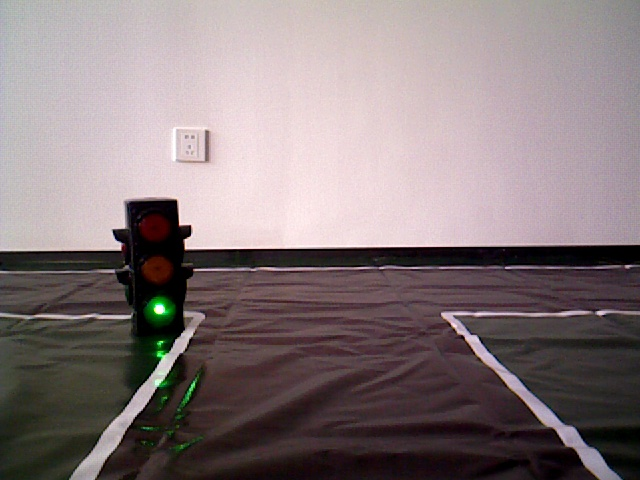green: (123, 202, 181, 322)
